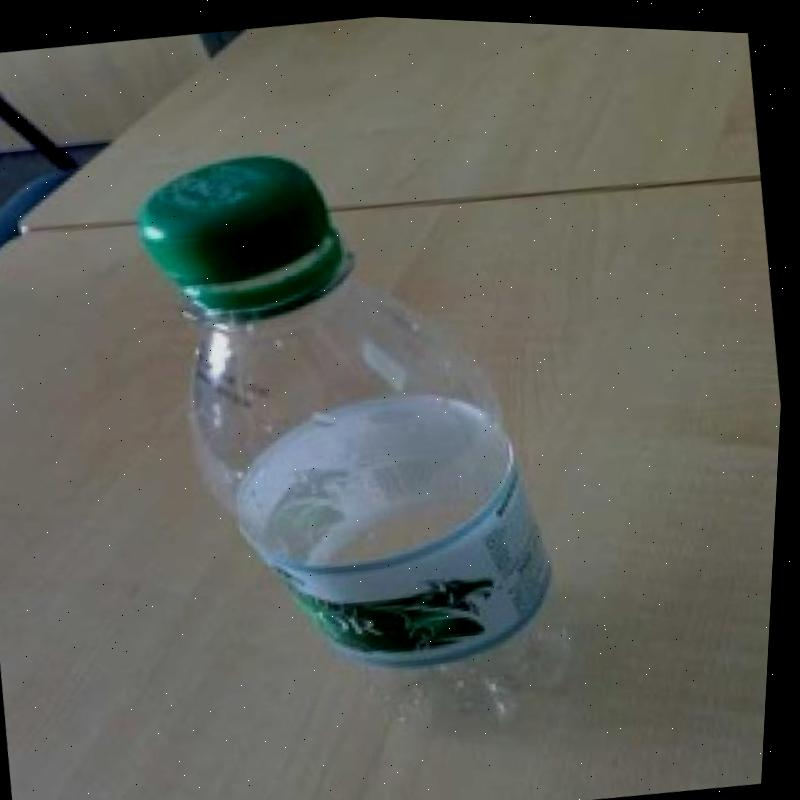botella: (112, 108, 620, 764)
